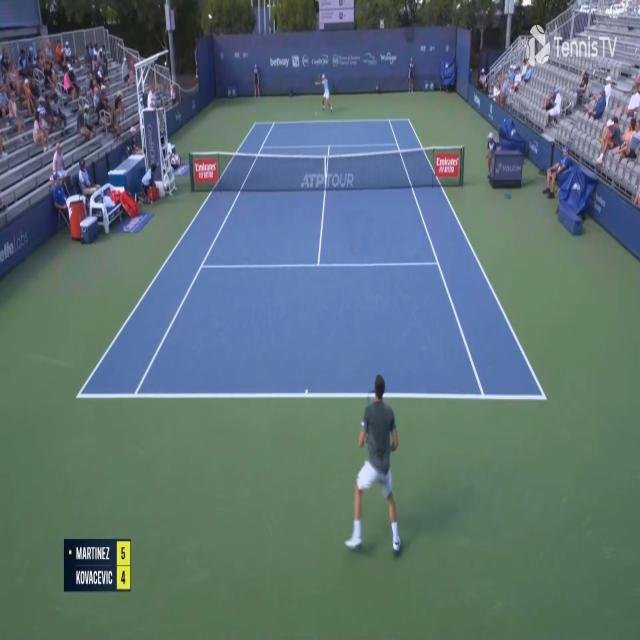tennis-player: (343, 367, 407, 560), (316, 71, 335, 112)
